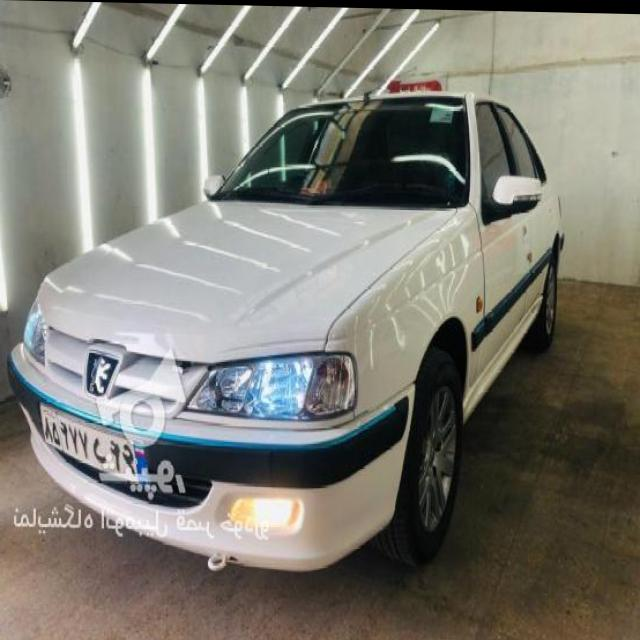licence: (43, 398, 148, 480)
